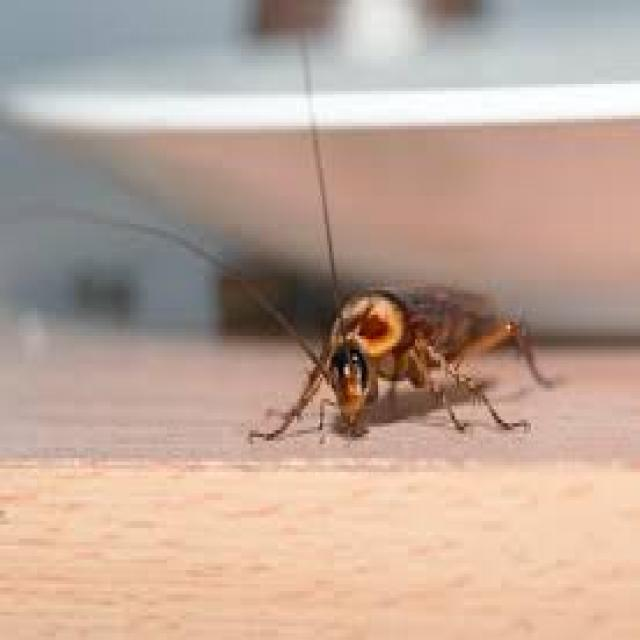Cockroach: (0, 14, 573, 465)
